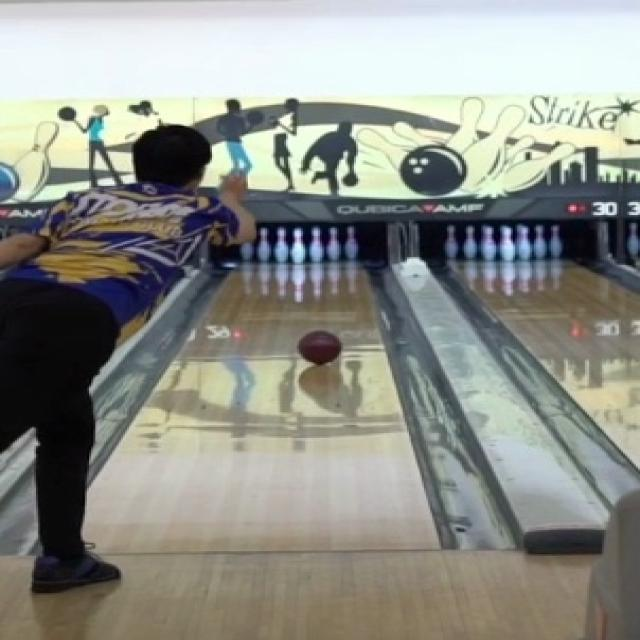alley: (87, 268, 437, 553)
balls: (299, 331, 339, 365)
bottle: (239, 225, 356, 260)
